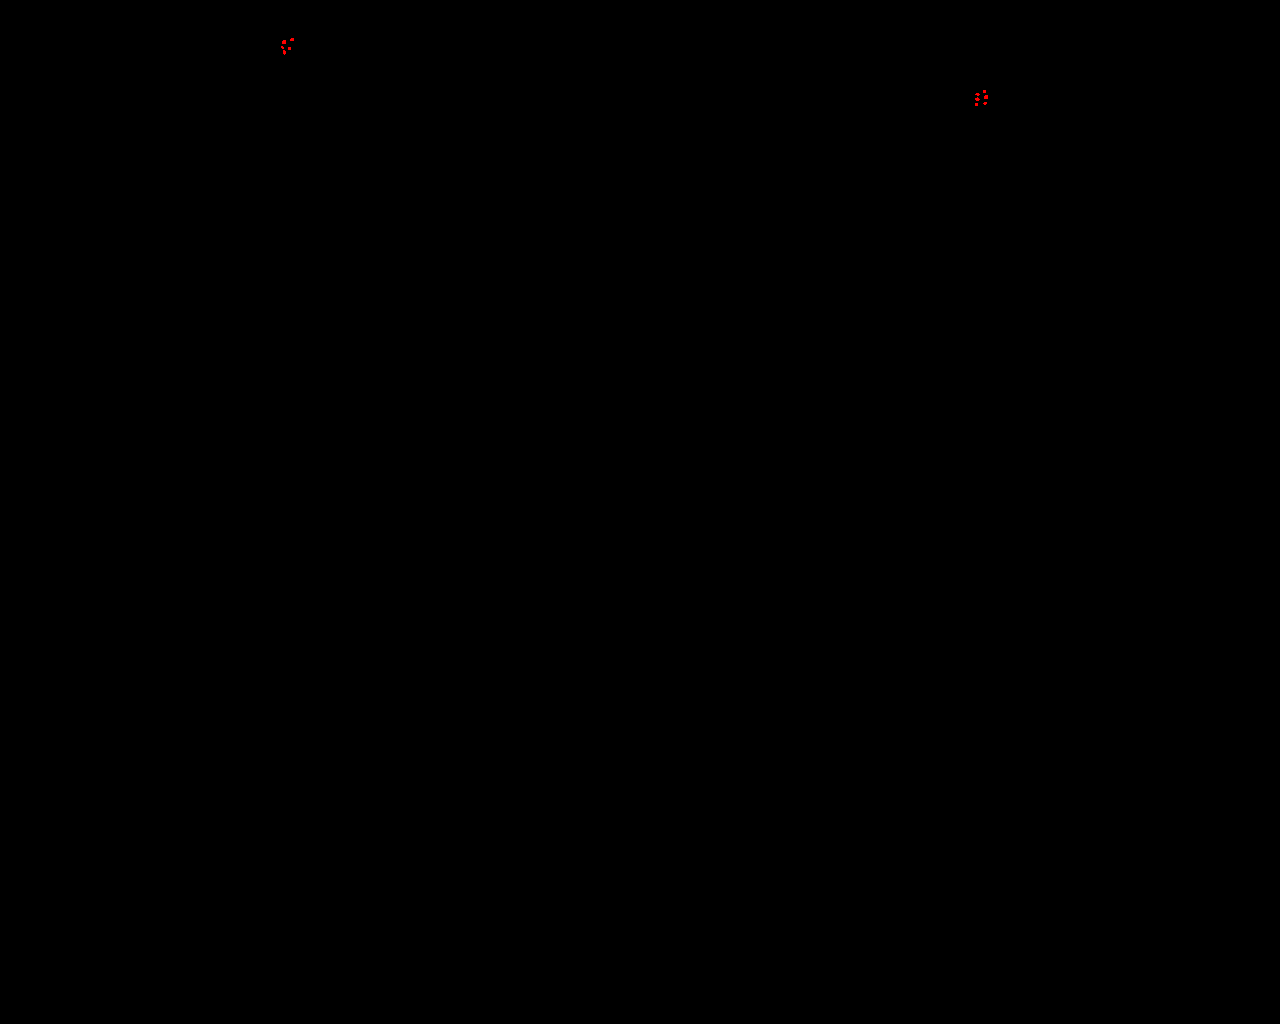Target: (975, 97, 980, 101), (282, 40, 286, 44), (984, 95, 988, 99), (283, 50, 286, 55), (975, 93, 980, 96), (290, 38, 294, 41), (281, 46, 284, 49), (983, 90, 986, 93), (983, 102, 987, 104), (288, 47, 290, 50), (975, 103, 978, 106)
